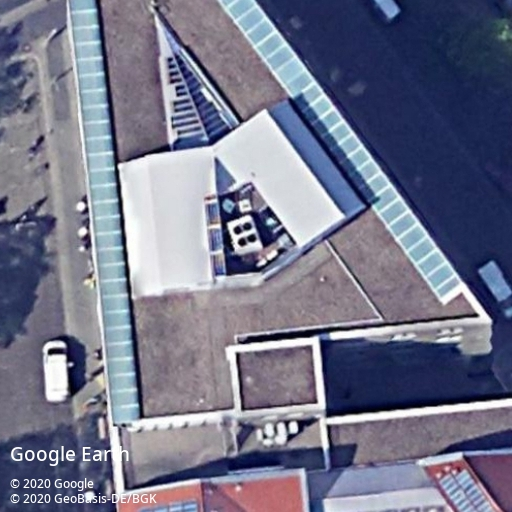Chiller: (226, 213, 263, 255)
